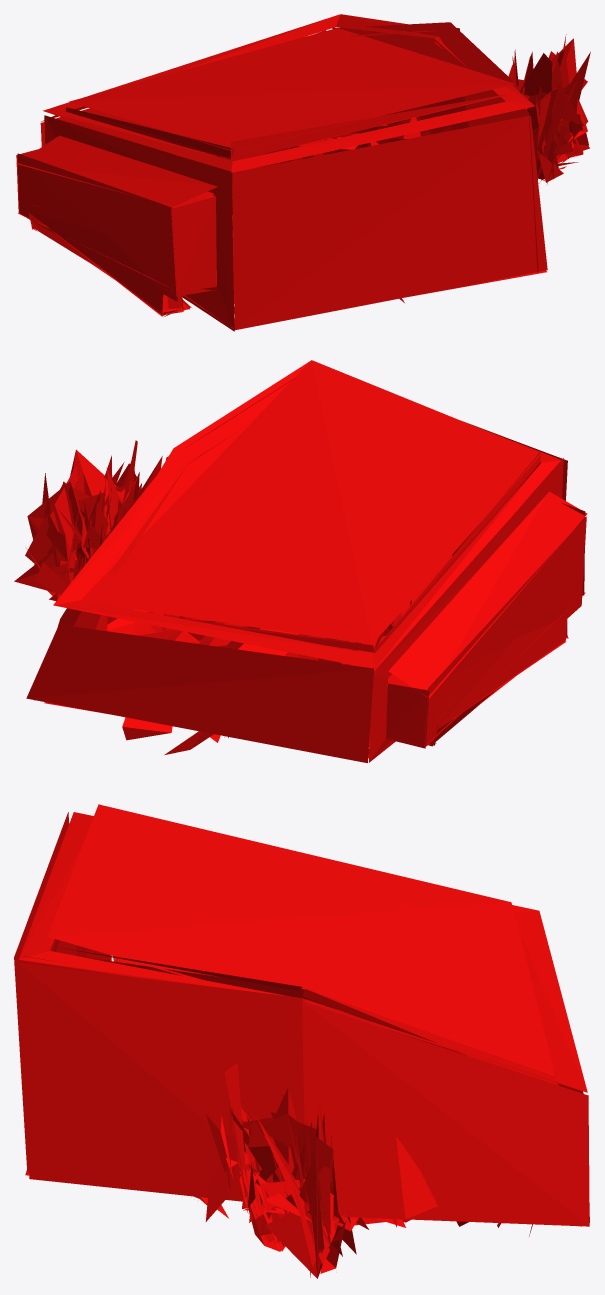
The picture shows the model from 3 angles, top to bottom: view 1: azimuth 30°, elevation 25°; view 2: azimuth 150°, elevation 25°; view 3: azimuth 270°, elevation 25°; orthographic projection. The views are drawn at different scales.
Parts seen in each view (by area): view 1: Renderer Node; view 2: Renderer Node; view 3: Renderer Node.
Boxes of the visible parts, x1,y1,x2,y2 form: Renderer Node: (16, 14, 590, 331); Renderer Node: (14, 360, 587, 763); Renderer Node: (14, 804, 589, 1278).
Size of the model in its own units: 0.5884 by 0.2786 by 0.4772.
1 material, 1 textured.
